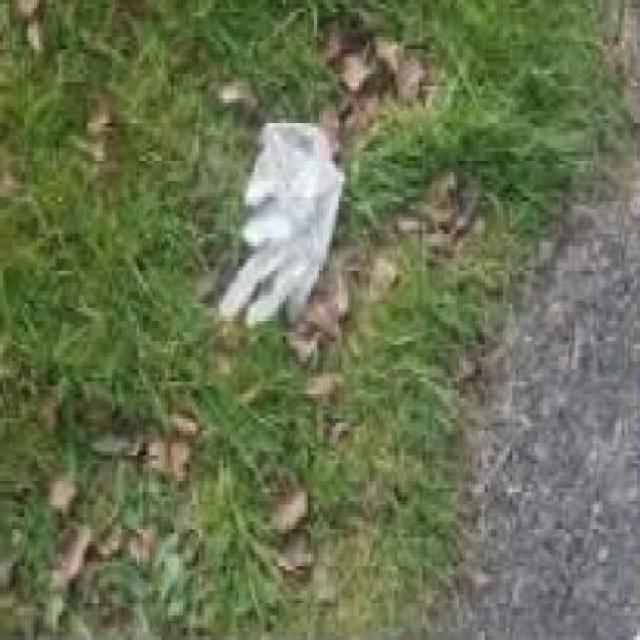gloved_hand: (218, 106, 342, 329)
